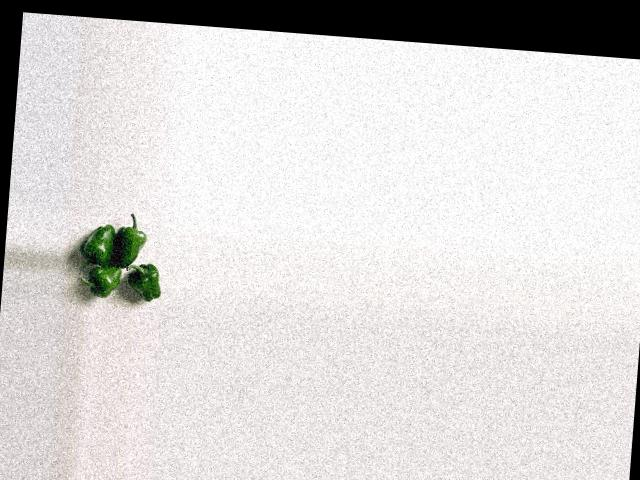bell_pepper: (80, 266, 124, 298)
